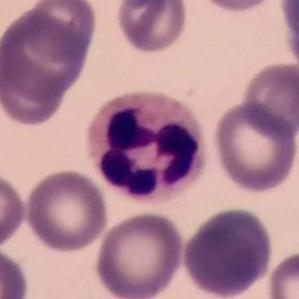Neutrophil: (82, 78, 214, 203)
RBC: (180, 204, 276, 299), (0, 6, 92, 105), (210, 99, 299, 194), (93, 209, 186, 299), (23, 166, 110, 254), (0, 51, 67, 128), (239, 60, 299, 138), (25, 0, 99, 62), (113, 0, 191, 56), (0, 170, 28, 250), (265, 248, 299, 299), (0, 245, 32, 299), (276, 0, 299, 74), (194, 0, 284, 14)
